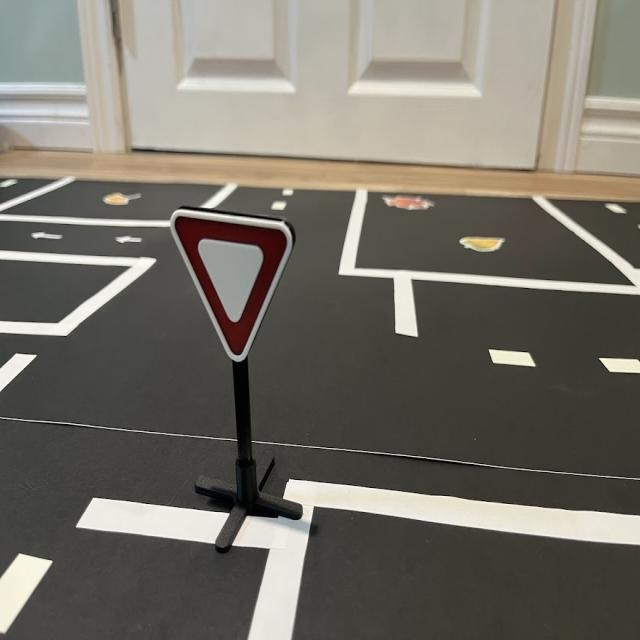road_oneway: (109, 230, 151, 250), (27, 229, 66, 246)
sign_yield: (171, 210, 295, 360)
